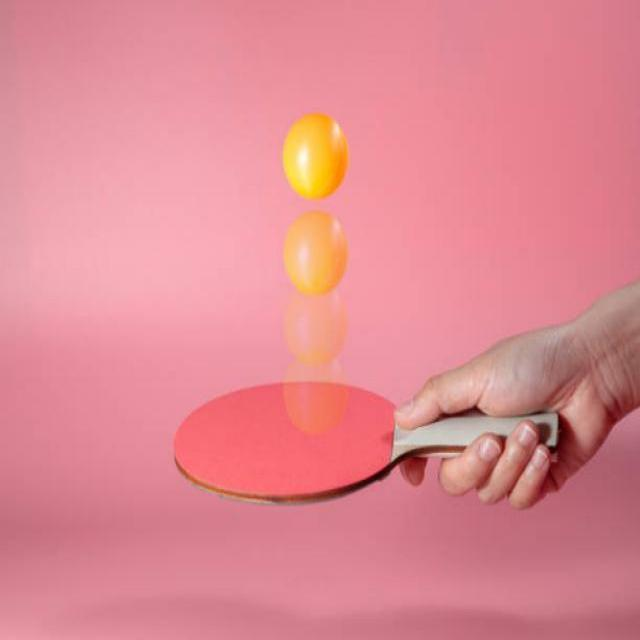ping-pong-ball: (282, 113, 348, 198), (284, 212, 348, 294), (286, 350, 346, 432)
